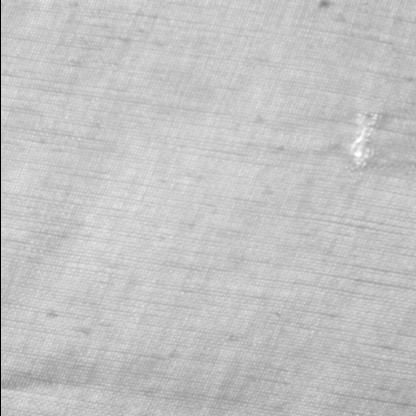hole: (344, 110, 386, 166)
